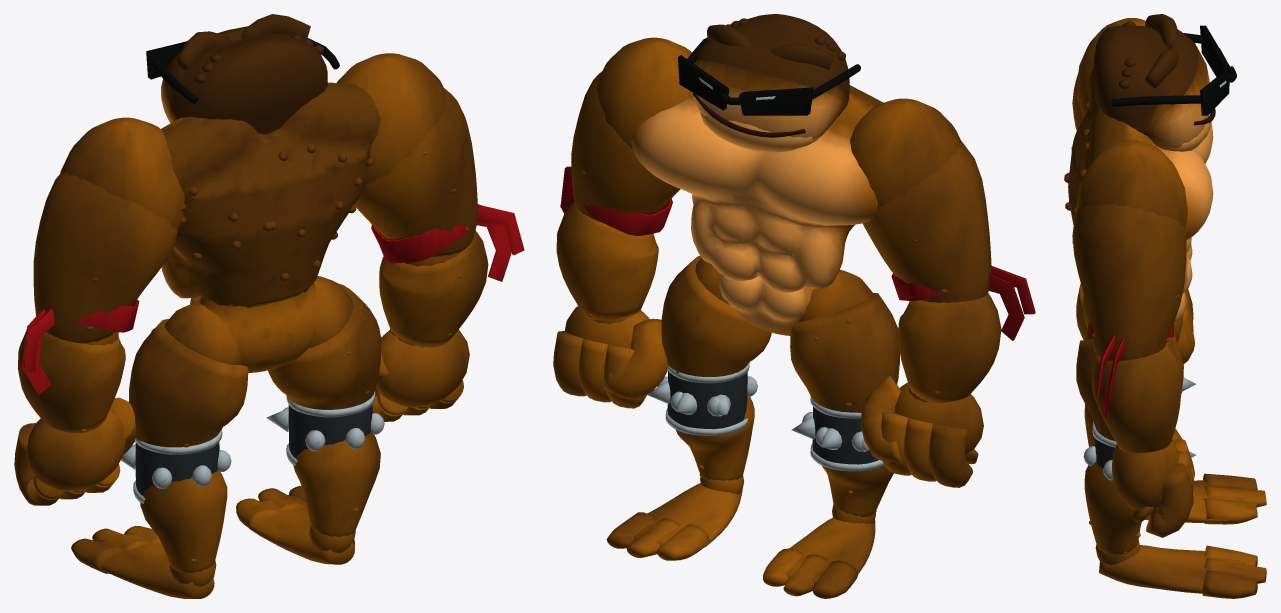
Rendered from brawler-player2.glb.
3 views of the same model, side by side, from view 1: azimuth 30°, elevation 25°; view 2: azimuth 150°, elevation 25°; view 3: azimuth 270°, elevation 25° (orthographic). The views are drawn at different scales.
Parts seen in each view (by area): view 1: UpperTorso, LeftUpperArm, RightUpperArm, Head, LeftUpperLeg, RightLowerLeg, LeftLowerLeg, RightUpperLeg, LeftHand, RightLowerArm, LeftLowerArm, RightHand (+3 smaller); view 2: UpperTorso, LeftUpperArm, Head, RightUpperArm, LeftUpperLeg, LeftHand, LeftLowerArm, RightHand, RightUpperLeg, RightLowerArm, RightLowerLeg, RightFoot (+3 smaller); view 3: RightUpperArm, Head, RightLowerArm, RightFoot, UpperTorso, RightHand, RightLowerLeg, LeftFoot, RightUpperLeg, LeftUpperArm, LeftHand, LeftUpperLeg (+2 smaller).
Part boxes in pixels (<box>): UpperTorso: <box>161,82,380,308</box>; LeftUpperArm: <box>22,117,184,394</box>; RightUpperArm: <box>337,53,524,281</box>; Head: <box>146,14,339,134</box>; LeftUpperLeg: <box>129,302,248,454</box>; RightLowerLeg: <box>266,391,384,536</box>; LeftLowerLeg: <box>121,429,231,573</box>; RightUpperLeg: <box>268,276,381,409</box>; LeftHand: <box>14,397,135,505</box>; RightLowerArm: <box>379,230,488,347</box>; LeftLowerArm: <box>18,330,125,433</box>; RightHand: <box>372,329,469,421</box>; UpperTorso: <box>631,85,883,292</box>; LeftUpperArm: <box>850,98,1035,340</box>; Head: <box>678,14,860,152</box>; RightUpperArm: <box>560,37,691,235</box>; LeftUpperLeg: <box>790,269,899,419</box>; LeftHand: <box>860,376,983,487</box>; LeftLowerArm: <box>898,293,1001,403</box>; RightHand: <box>553,306,667,408</box>; RightUpperLeg: <box>661,255,771,376</box>; RightLowerArm: <box>556,202,658,320</box>; RightLowerLeg: <box>646,362,757,480</box>; RightFoot: <box>606,475,744,560</box>; RightUpperArm: <box>1072,140,1187,417</box>; Head: <box>1093,14,1236,151</box>; RightLowerArm: <box>1092,344,1180,453</box>; RightFoot: <box>1095,540,1266,598</box>; UpperTorso: <box>1064,69,1213,293</box>; RightHand: <box>1112,429,1194,537</box>; RightLowerLeg: <box>1083,421,1195,554</box>; LeftFoot: <box>1144,473,1266,524</box>; RightUpperLeg: <box>1076,321,1183,440</box>; LeftUpperArm: <box>1072,18,1145,130</box>; LeftHand: <box>1178,289,1194,364</box>; LeftUpperLeg: <box>1076,283,1183,343</box>.
Bounding box in the file's own units: 1.65 × 1.7 × 0.6064.
Materials: 1 (1 with a texture image).
